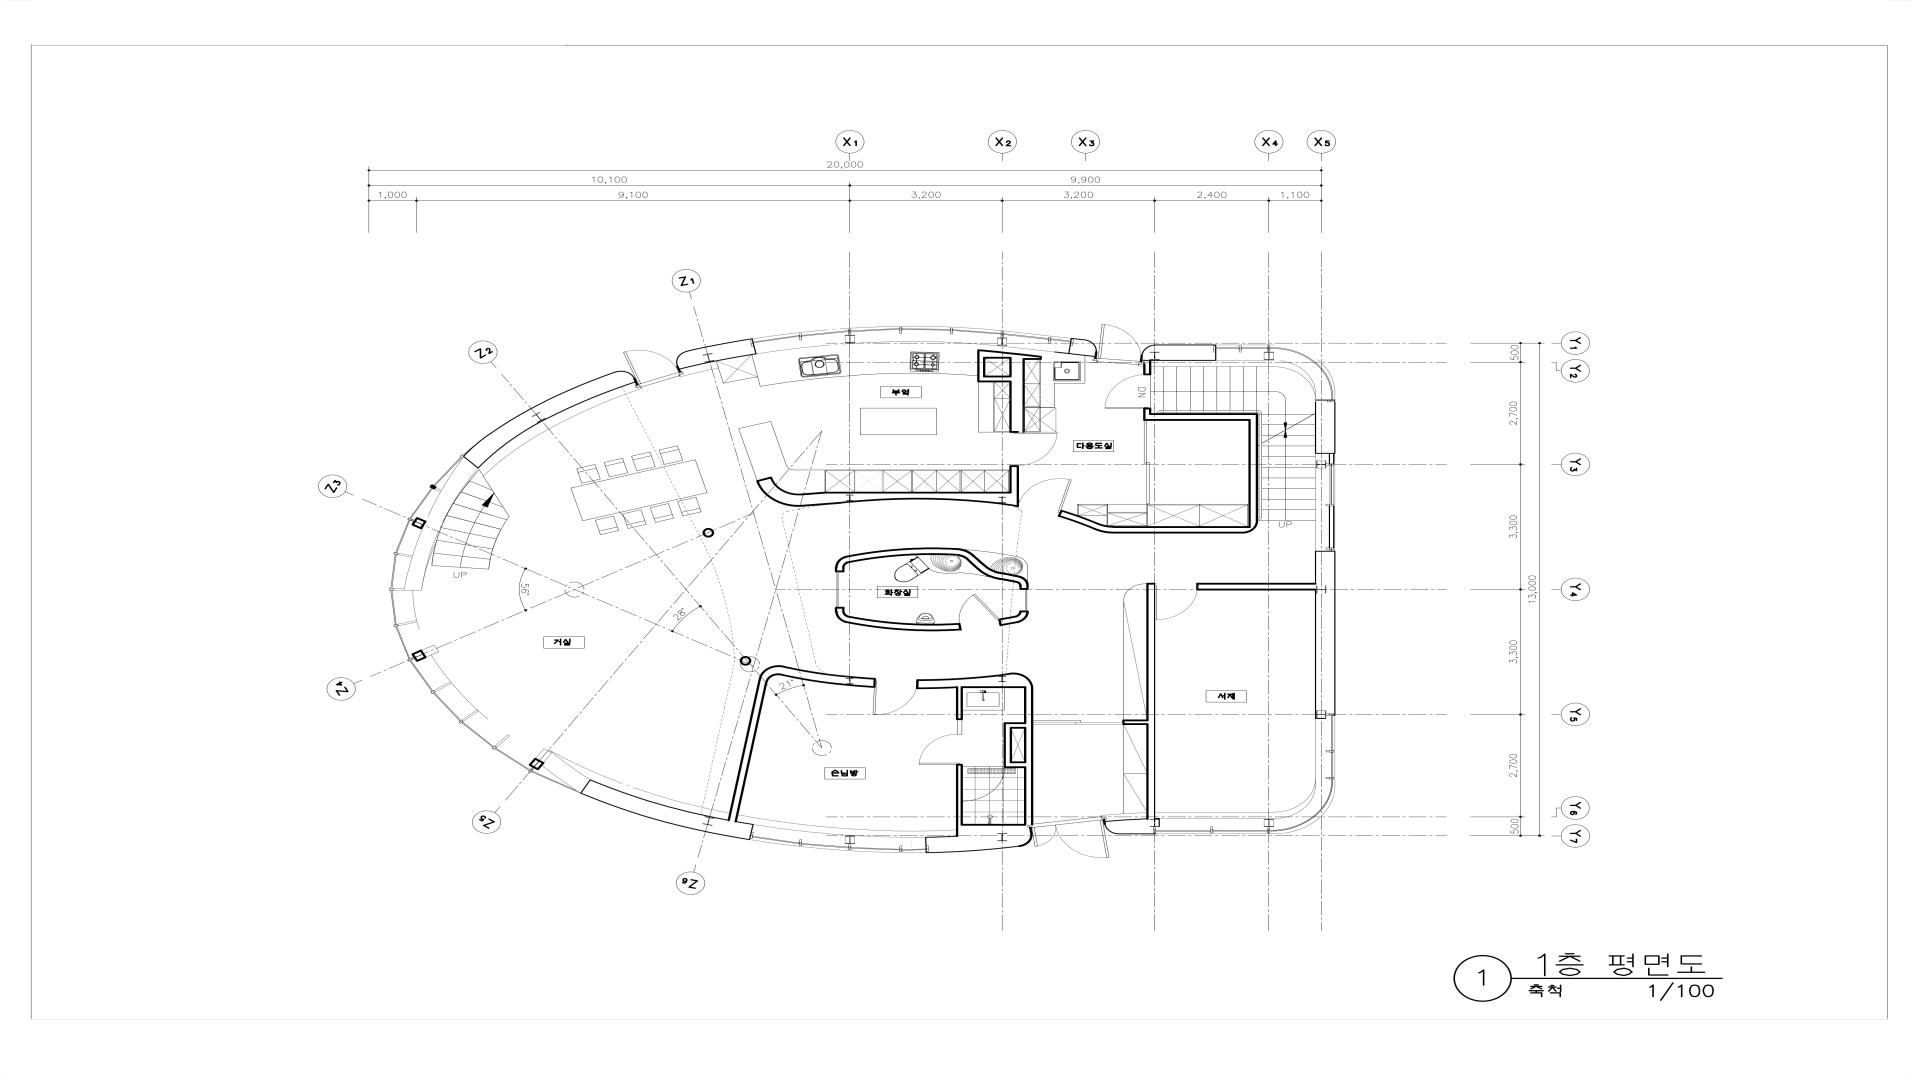door: (1031, 816, 1109, 865), (622, 338, 682, 388), (1019, 468, 1076, 517), (1096, 324, 1145, 365), (919, 720, 963, 765), (952, 589, 1000, 630), (1105, 375, 1151, 409), (1155, 583, 1197, 620), (873, 680, 916, 715), (1034, 720, 1122, 725), (1145, 421, 1150, 504)
wall: (728, 666, 874, 822), (463, 371, 637, 468), (580, 779, 754, 840), (835, 547, 1029, 589), (756, 476, 1009, 506), (1058, 510, 1254, 534), (1315, 551, 1336, 719), (924, 823, 1034, 853), (835, 607, 963, 632), (676, 339, 757, 369), (1146, 583, 1155, 819), (916, 673, 1034, 688), (1141, 344, 1216, 361), (1025, 688, 1034, 823), (1009, 359, 1025, 433), (1315, 400, 1336, 454), (1249, 413, 1258, 530), (1196, 583, 1315, 591), (1104, 818, 1156, 835), (1151, 413, 1249, 421), (977, 349, 1042, 360), (1068, 338, 1097, 357), (998, 611, 1029, 626), (1009, 465, 1019, 508), (1004, 723, 1013, 769), (956, 765, 963, 824), (977, 359, 986, 382), (956, 688, 963, 720), (985, 376, 1009, 382), (1122, 720, 1146, 725), (1143, 361, 1151, 376), (1143, 407, 1151, 421), (1011, 761, 1025, 769), (1013, 723, 1025, 729)
window: (390, 456, 589, 794), (1155, 716, 1335, 833), (753, 326, 1071, 353), (1216, 344, 1335, 400), (750, 824, 926, 853), (1316, 454, 1336, 551), (835, 572, 844, 607), (1019, 589, 1029, 611)
